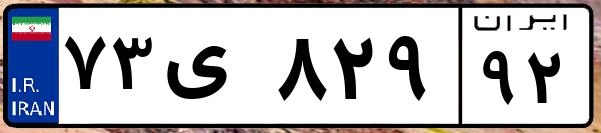2: (330, 28, 385, 110), (525, 38, 570, 115)
3: (110, 28, 158, 98)
7: (57, 26, 110, 100)
8: (270, 28, 330, 110)
9: (385, 28, 445, 110), (475, 38, 525, 113)
ی: (158, 20, 270, 120)
